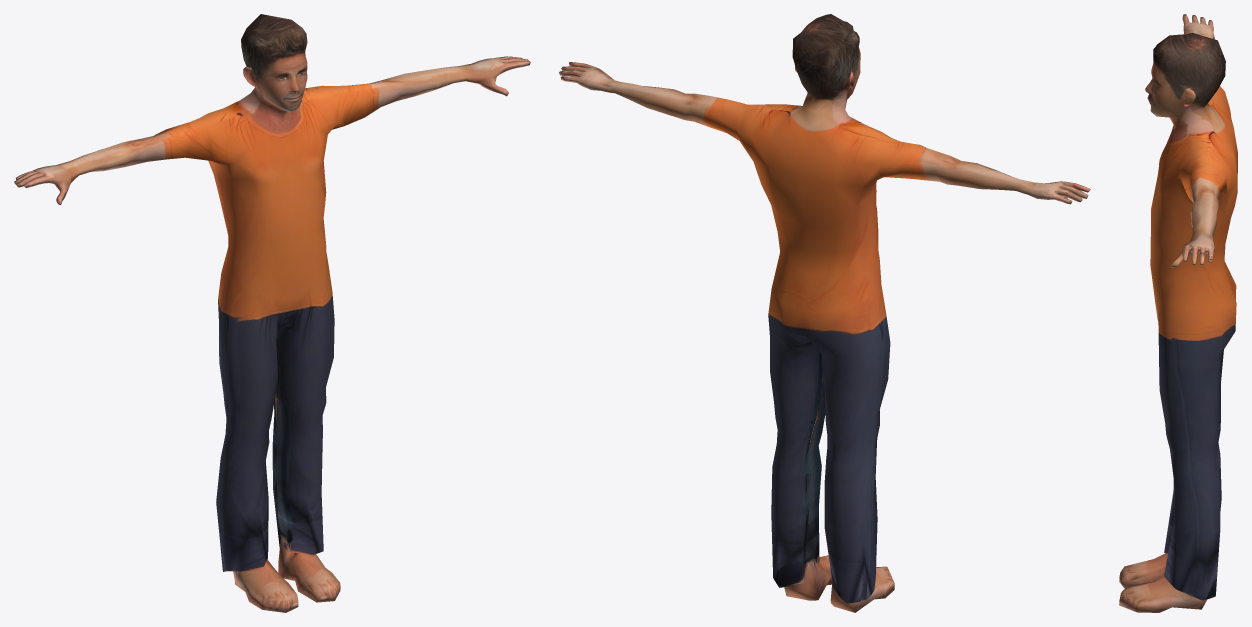
Rendered from _0803050517_texture.fbx.
3 renders of one model, left to right at view 1: azimuth 30°, elevation 25°; view 2: azimuth 150°, elevation 25°; view 3: azimuth 270°, elevation 25°, orthographic. The views are drawn at different scales.
Parts seen in each view (by area): view 1: SubMesh_0; view 2: SubMesh_0; view 3: SubMesh_0.
Part boxes in pixels (left/top/right/bottom): SubMesh_0: left=14, top=14, right=530, bottom=612; SubMesh_0: left=559, top=14, right=1090, bottom=612; SubMesh_0: left=1119, top=14, right=1237, bottom=612.
Bounding box in the file's own units: 190 × 200 × 38.53.
1 material, 1 textured.
